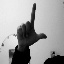l: (15, 2, 48, 51)
